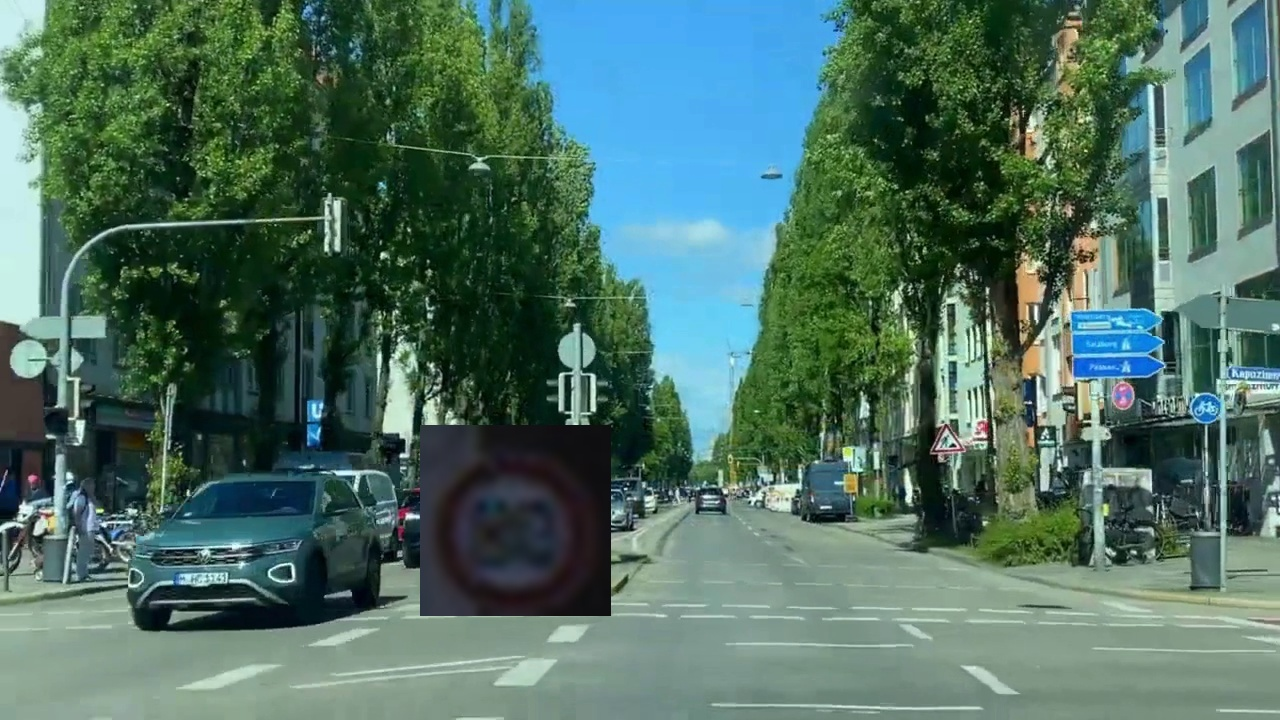Speed 80: (420, 425, 611, 616)
